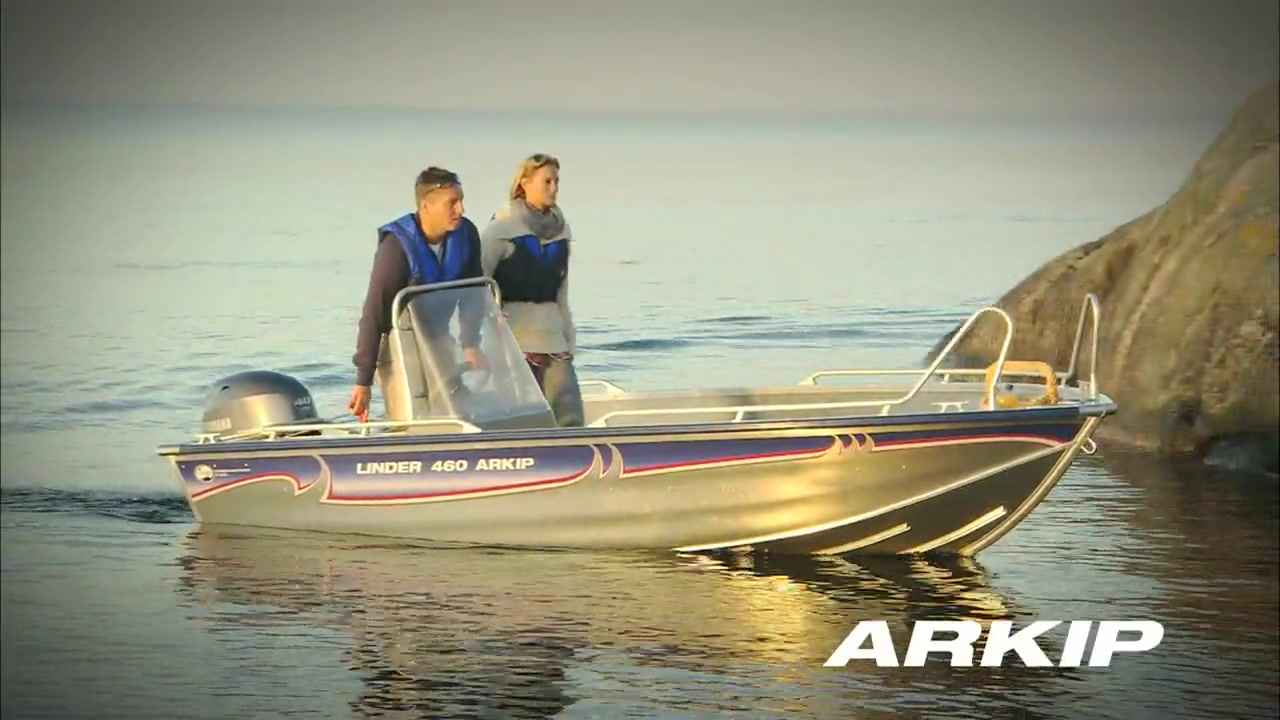boat: (155, 271, 1125, 573)
